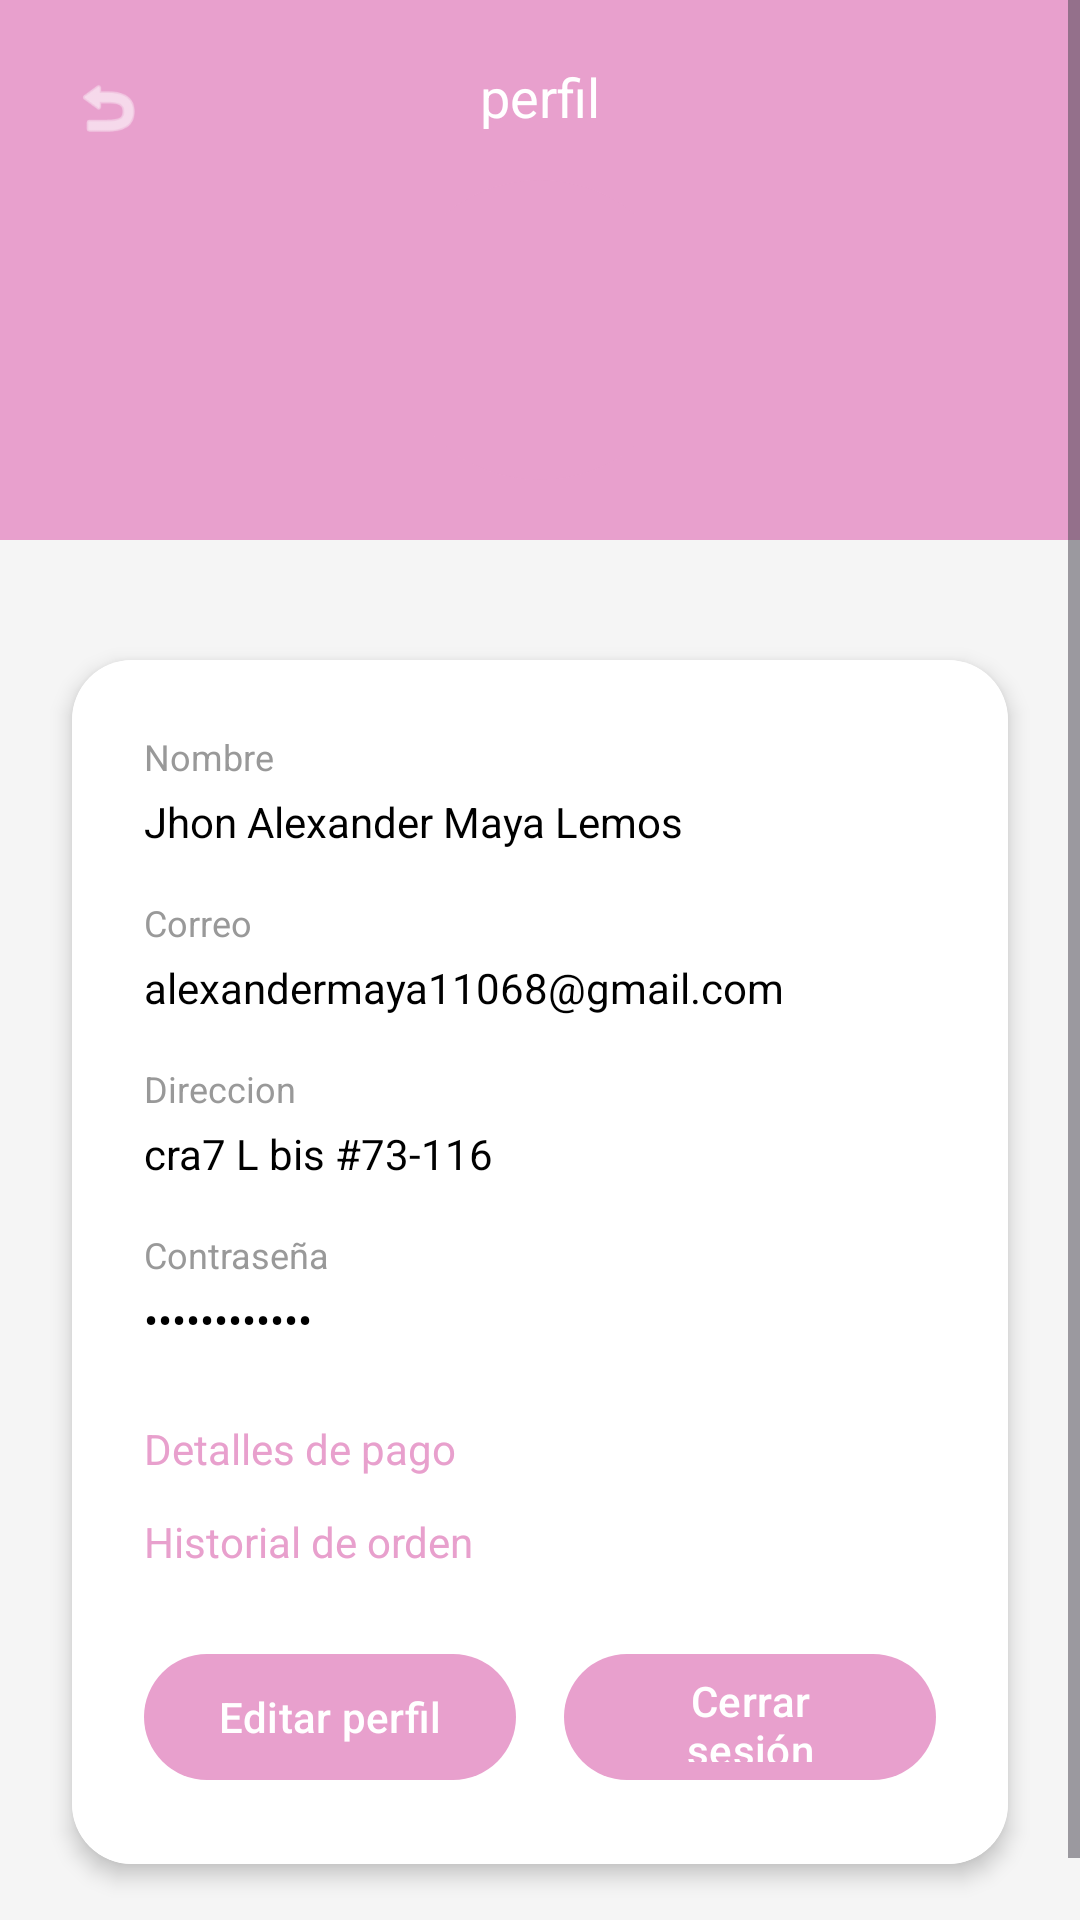

Point at icon controls on the screen. Image size 1080 x 1920, points as [x,y].
Back: [108,108]
